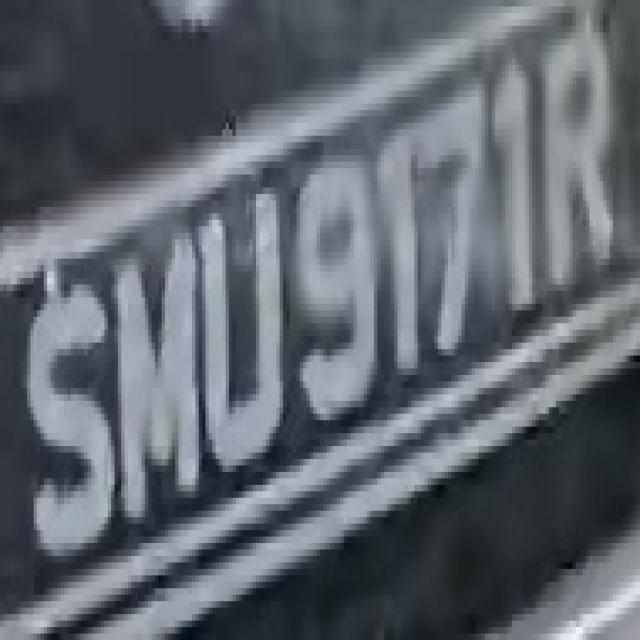1: (482, 39, 539, 317), (377, 103, 421, 388)
7: (414, 90, 492, 382)
9: (283, 142, 374, 427)
M: (104, 239, 212, 524)
R: (539, 19, 616, 310)
S: (17, 265, 104, 569)
U: (198, 174, 290, 485)
